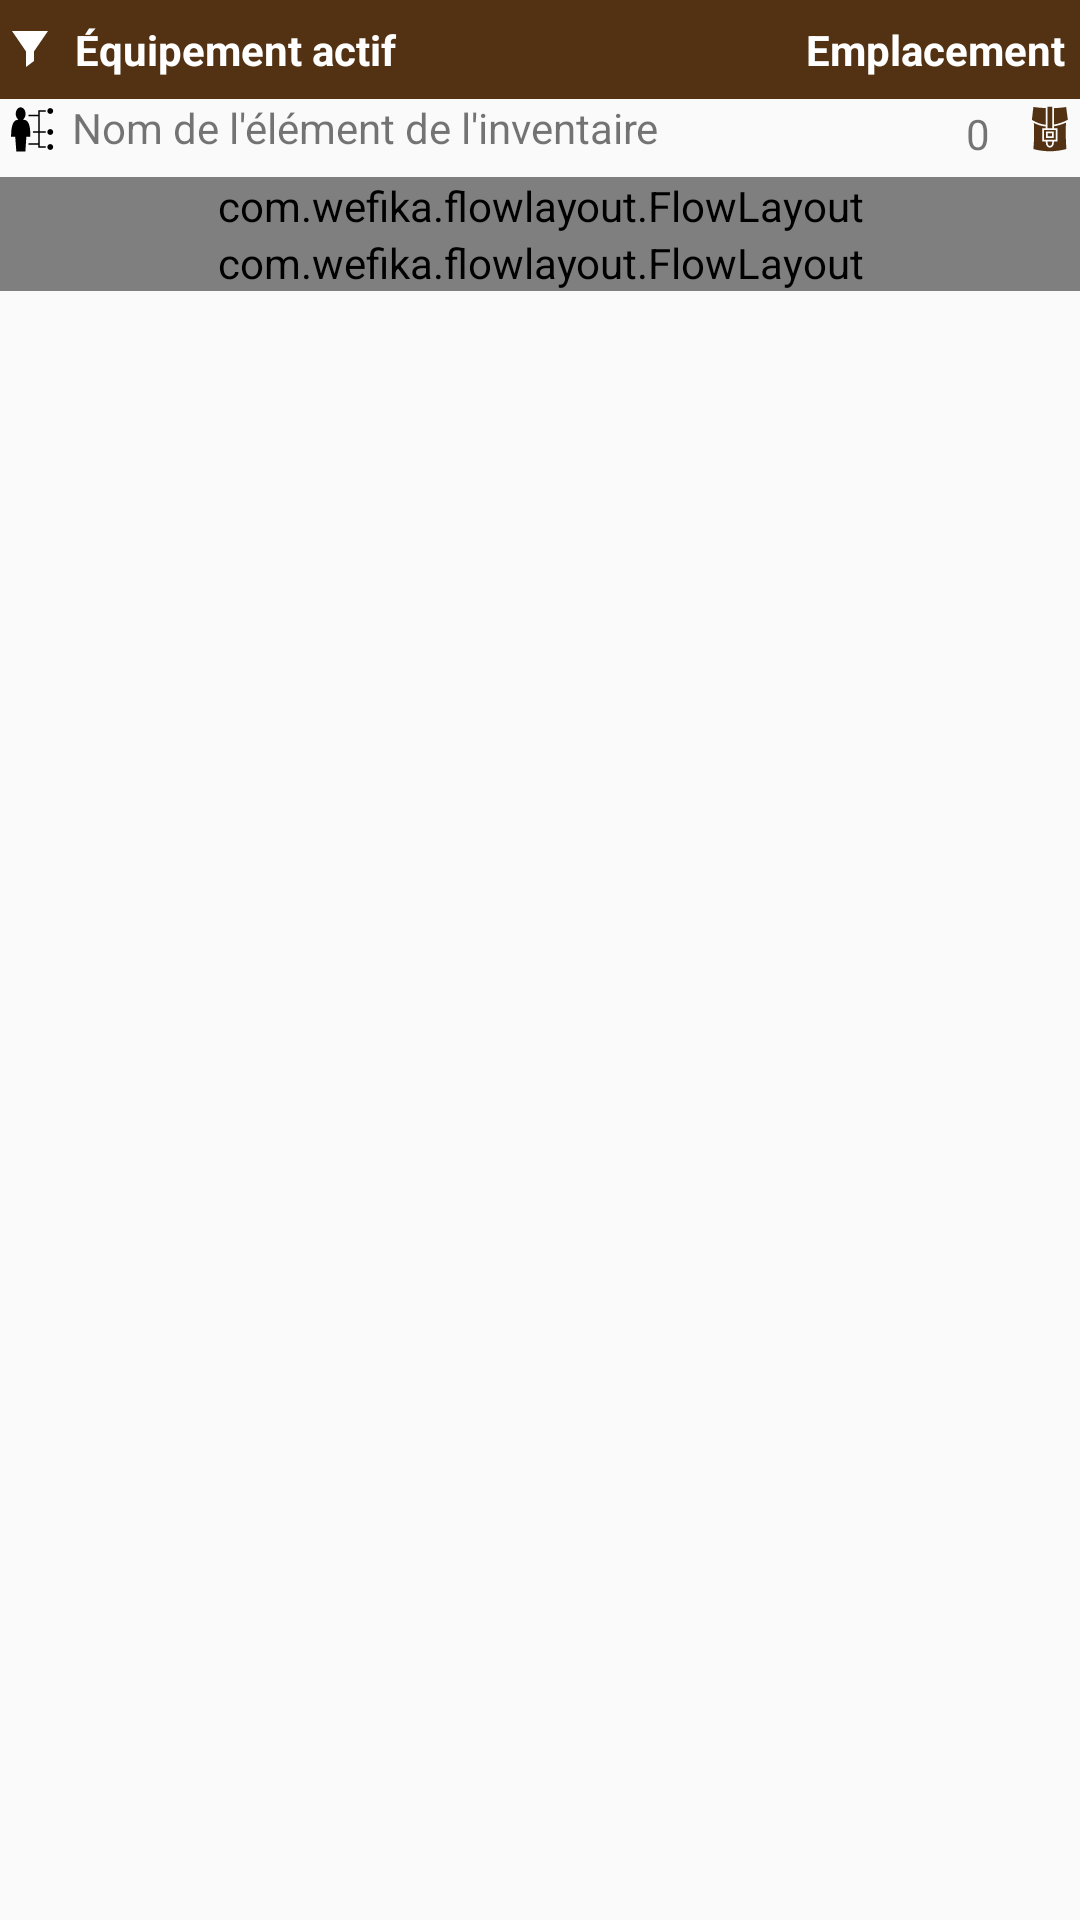

Icon bounding boxes for this 1080 × 1920 phone screenshot, format [left=x1, top=y1, right=x2, bottom=y2]:
bag: [left=1032, top=106, right=1068, bottom=152]
filter: [left=12, top=31, right=48, bottom=67]
